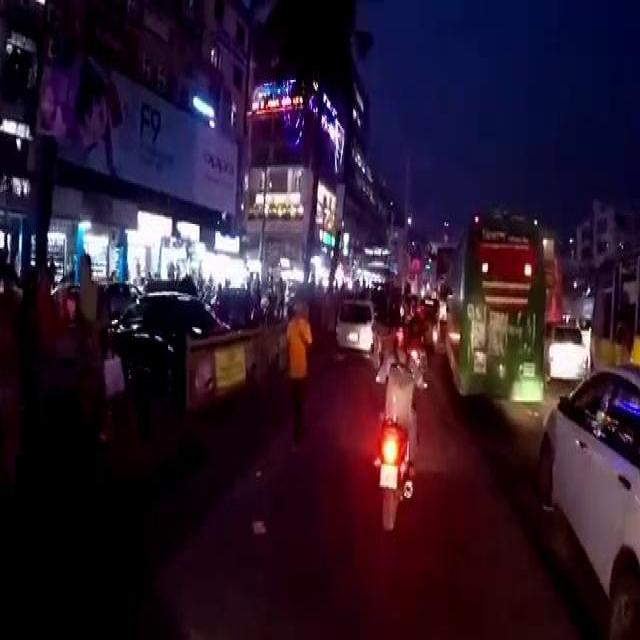10: (372, 412, 414, 527), (406, 343, 422, 389)
17: (418, 292, 440, 344)
5: (536, 361, 638, 638), (108, 290, 228, 386), (542, 318, 590, 382), (332, 293, 374, 354), (104, 279, 140, 315), (50, 280, 80, 317)
Truck: (442, 208, 544, 400), (588, 245, 638, 370), (542, 224, 562, 324)
